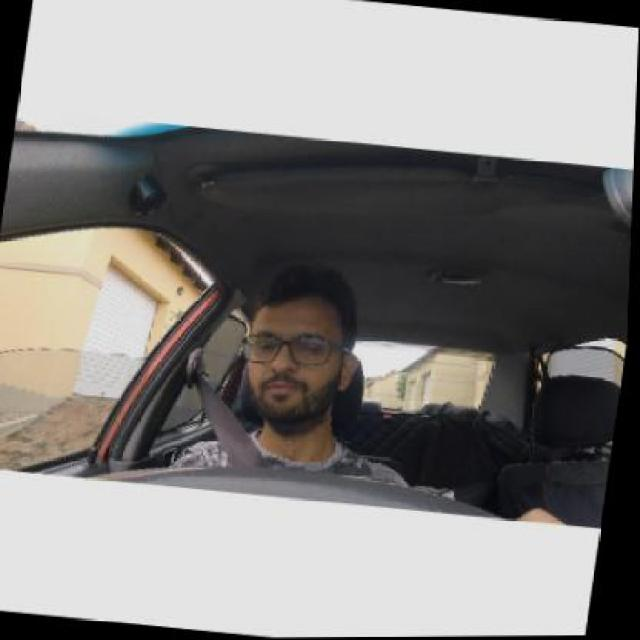drowsy: (240, 267, 364, 436)
